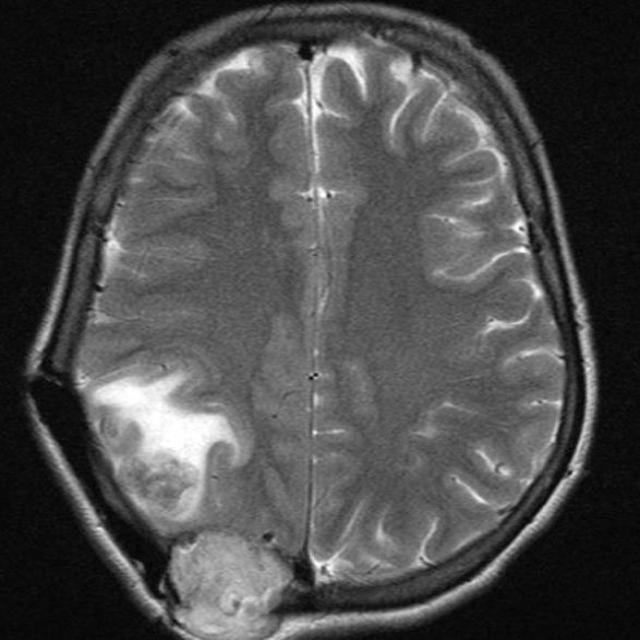Tumor-Cell: (83, 348, 244, 523), (158, 535, 318, 640)
